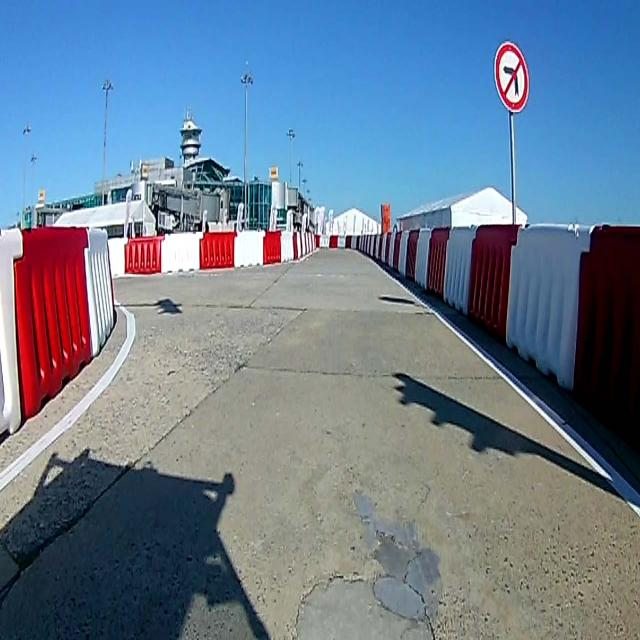soladonulmez: (495, 44, 529, 110)
